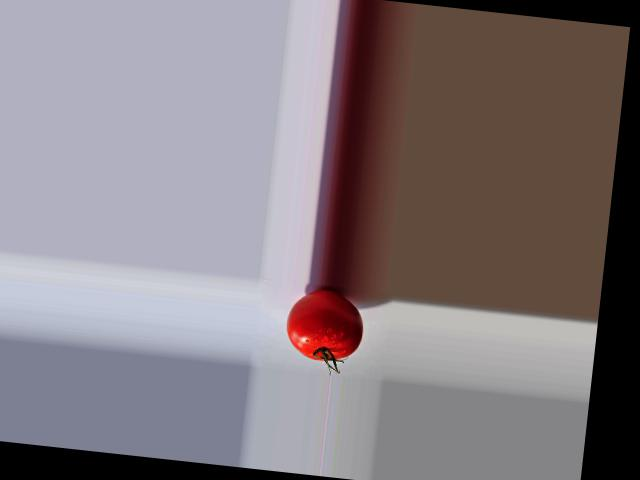tomato: (283, 285, 366, 363)
